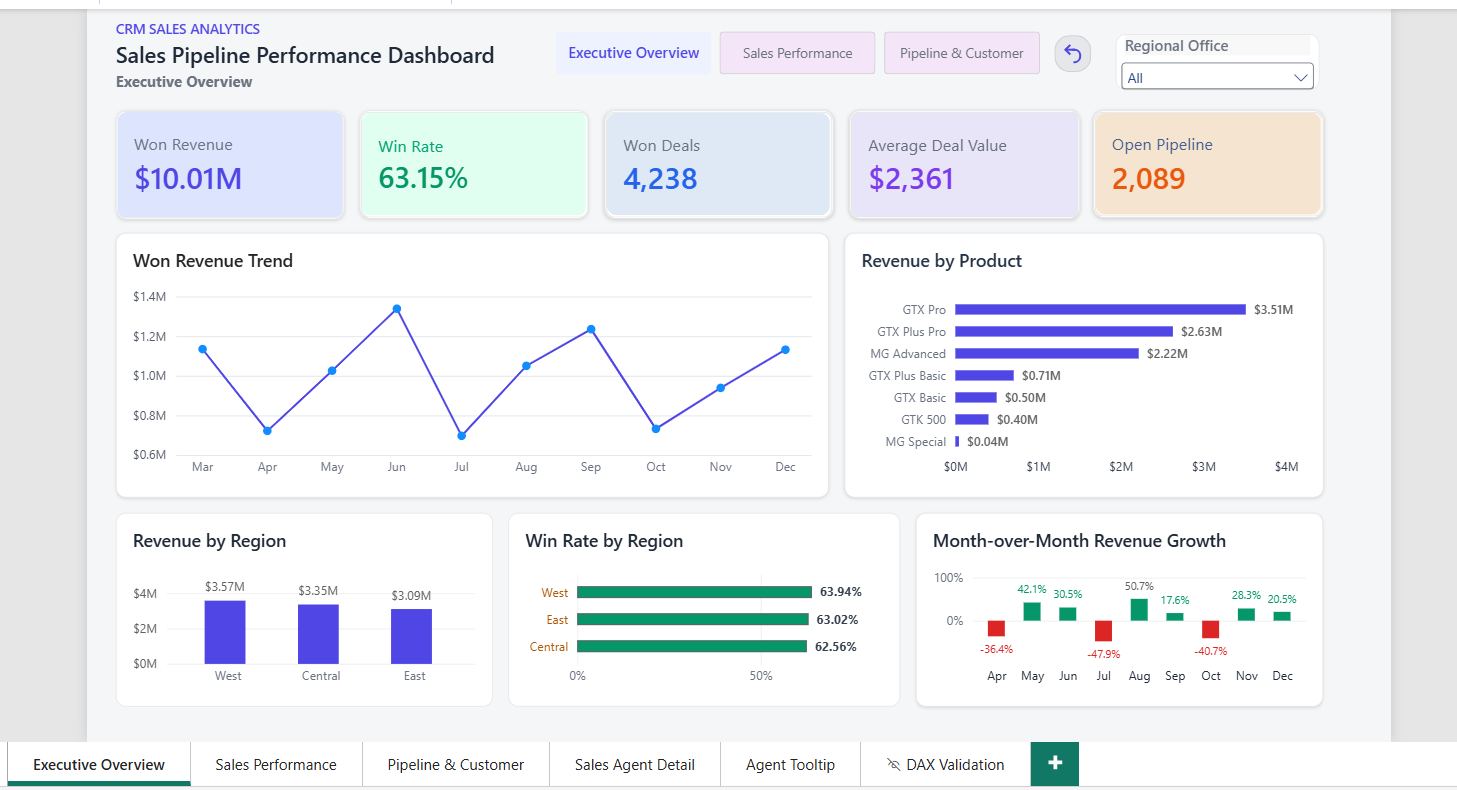

The dashboard page shown, as its layout file describes it:
{"tool":"powerbi","page":{"name":"Executive Overview","canvas":[1280,720],"ordinal":1},"visuals":[{"type":"cardVisual","fields":{"Data":["_Measures.Won Revenue"]},"box":[28,100,225,107],"z":2000},{"type":"cardVisual","fields":{"Data":["_Measures.Win Rate %"]},"box":[268,100,225,106],"z":3000},{"type":"cardVisual","fields":{"Data":["_Measures.Won Opportunities"]},"box":[508,100,224.5,106.7],"z":4000},{"type":"cardVisual","fields":{"Data":["_Measures.Average Won Deal Value"]},"box":[748,100,226,106],"z":5000},{"type":"cardVisual","fields":{"Data":["_Measures.Open Opportunities"]},"box":[988,100,226.3,105.3],"z":6000},{"type":"lineChart","title":"Won Revenue Trend","fields":{"Category":["DateTable.Date Hierarchy.Year","DateTable.Date Hierarchy.Quarter","DateTable.Date Hierarchy.Month"],"Y":["_Measures.Won Revenue"]},"box":[28,220,700,260],"z":7000},{"type":"clusteredBarChart","title":"Revenue by Product","fields":{"Category":["products.product"],"Y":["_Measures.Won Revenue"]},"box":[743,220,470,260],"z":8000},{"type":"clusteredColumnChart","title":"Revenue by Region","fields":{"Category":["sales_teams.regional_office"],"Y":["_Measures.Won Revenue"]},"box":[28,495,370,190],"z":9000},{"type":"clusteredBarChart","title":"Win Rate by Region","fields":{"Category":["sales_teams.regional_office"],"Y":["_Measures.Win Rate %"]},"box":[413,495,385,190],"z":10000},{"type":"clusteredColumnChart","title":"Month-over-Month Revenue Growth","fields":{"Category":["DateTable.Month"],"Y":["_Measures.MoM Revenue Growth %"]},"box":[813,495,400,190],"z":11000},{"type":"pageNavigator","box":[460,22,475,42],"z":13000},{"type":"actionButton","box":[950,26,36,36],"z":14000},{"type":"slicer","fields":{"Values":["sales_teams.regional_office"]},"box":[1010,25,200,55],"z":14001},{"type":"textbox","box":[28,29,420,30],"z":14002},{"type":"textbox","box":[28,10,300,18],"z":14003},{"type":"textbox","box":[28,60,200,20],"z":14004}]}

Visuals, with their boxes on the page's 1280x720 design canvas (x1, y1, x2, y2). These are canvas units, not pixel positions in the 1457x790 screenshot, which may show the page scaled, cropped or inside an application window:
cardVisual - _Measures.Won Revenue: l=28, t=100, r=253, b=207
cardVisual - _Measures.Win Rate %: l=268, t=100, r=493, b=206
cardVisual - _Measures.Won Opportunities: l=508, t=100, r=732, b=207
cardVisual - _Measures.Average Won Deal Value: l=748, t=100, r=974, b=206
cardVisual - _Measures.Open Opportunities: l=988, t=100, r=1214, b=205
"Won Revenue Trend" lineChart: l=28, t=220, r=728, b=480
"Revenue by Product" clusteredBarChart: l=743, t=220, r=1213, b=480
"Revenue by Region" clusteredColumnChart: l=28, t=495, r=398, b=685
"Win Rate by Region" clusteredBarChart: l=413, t=495, r=798, b=685
"Month-over-Month Revenue Growth" clusteredColumnChart: l=813, t=495, r=1213, b=685
pageNavigator: l=460, t=22, r=935, b=64
actionButton: l=950, t=26, r=986, b=62
slicer - sales_teams.regional_office: l=1010, t=25, r=1210, b=80
textbox: l=28, t=29, r=448, b=59
textbox: l=28, t=10, r=328, b=28
textbox: l=28, t=60, r=228, b=80
